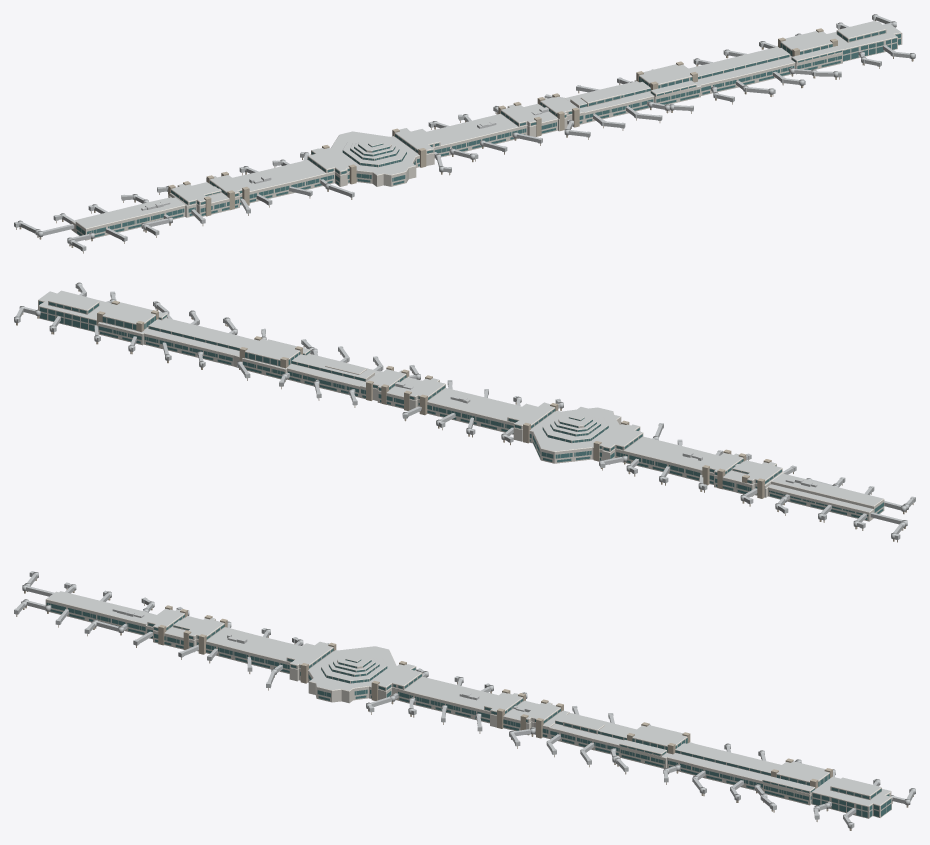
The model's file is den-airport-concourse-c.detail.glb.
The picture shows the model from 3 angles, top to bottom: view 1: azimuth 30°, elevation 25°; view 2: azimuth 150°, elevation 25°; view 3: azimuth 330°, elevation 25°; orthographic projection. The views are drawn at different scales.
Visible parts, largest first — view 1: Denver International Airport, Concourse C; view 2: Denver International Airport, Concourse C; view 3: Denver International Airport, Concourse C.
Part boxes in pixels (bbox=[...]): Denver International Airport, Concourse C: bbox=[14, 14, 915, 253]; Denver International Airport, Concourse C: bbox=[14, 282, 915, 542]; Denver International Airport, Concourse C: bbox=[14, 571, 915, 830].
Bounding box in the file's own units: 1035 × 25.5 × 123.
